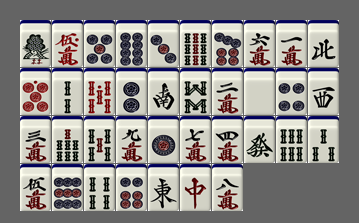0m: (52, 20, 83, 67)
0p: (20, 68, 51, 115)
0s: (84, 68, 115, 115)
1m: (276, 20, 307, 67)
1p: (148, 116, 179, 163)
1s: (20, 20, 51, 67)
1z: (148, 164, 179, 211)
2m: (212, 68, 243, 115)
2p: (116, 68, 147, 115)
2s: (52, 68, 83, 115)
2z: (148, 68, 179, 115)
3m: (20, 116, 51, 163)
3p: (148, 20, 179, 67)
3s: (308, 116, 339, 163)
3z: (308, 68, 339, 115)
4m: (212, 116, 243, 163)
4p: (276, 68, 307, 115)
4s: (84, 164, 115, 211)
4z: (308, 20, 339, 67)
5m: (20, 164, 51, 211)
5p: (84, 20, 115, 67)
5s: (84, 116, 115, 163)
5z: (244, 68, 275, 115)
6m: (244, 20, 275, 67)
6p: (116, 164, 147, 211)
6s: (276, 116, 307, 163)
6z: (244, 116, 275, 163)
7m: (180, 116, 211, 163)
7p: (212, 20, 243, 67)
7s: (52, 116, 83, 163)
7z: (180, 164, 211, 211)
8m: (212, 164, 243, 211)
8p: (116, 20, 147, 67)
8s: (180, 68, 211, 115)
9m: (116, 116, 147, 163)
9p: (52, 164, 83, 211)
9s: (180, 20, 211, 67)
